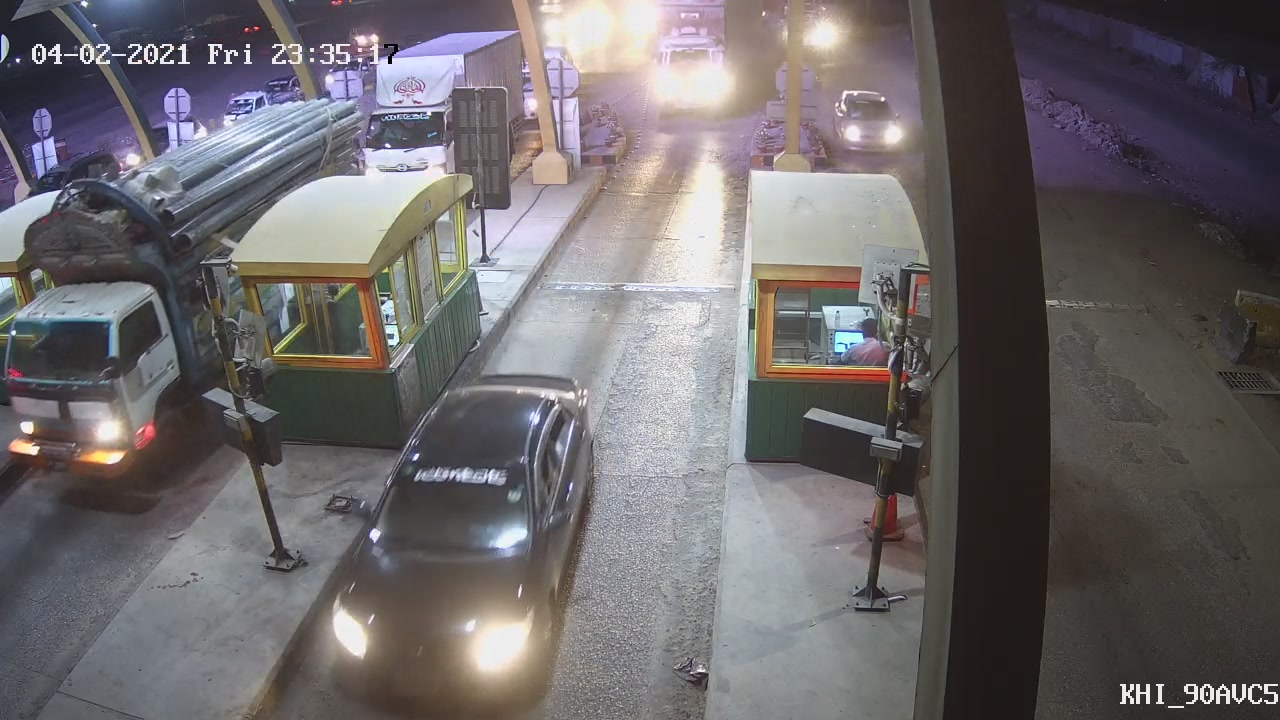F1: (320, 372, 591, 710)
